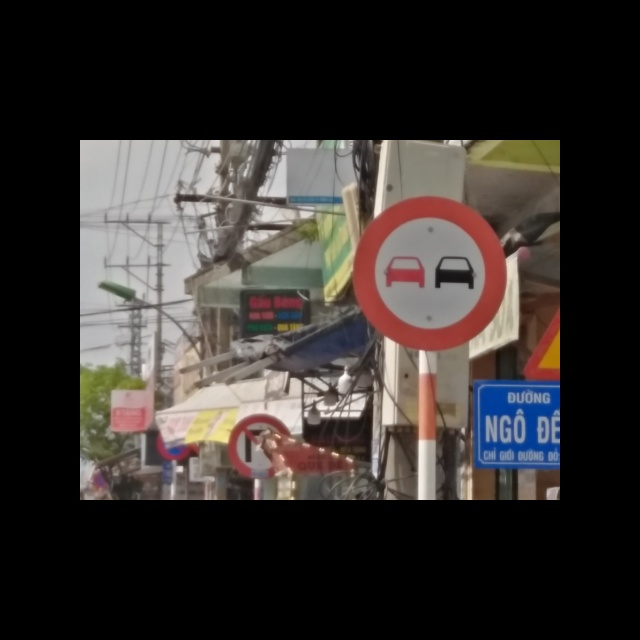Cấm vượt: (350, 193, 513, 352)
